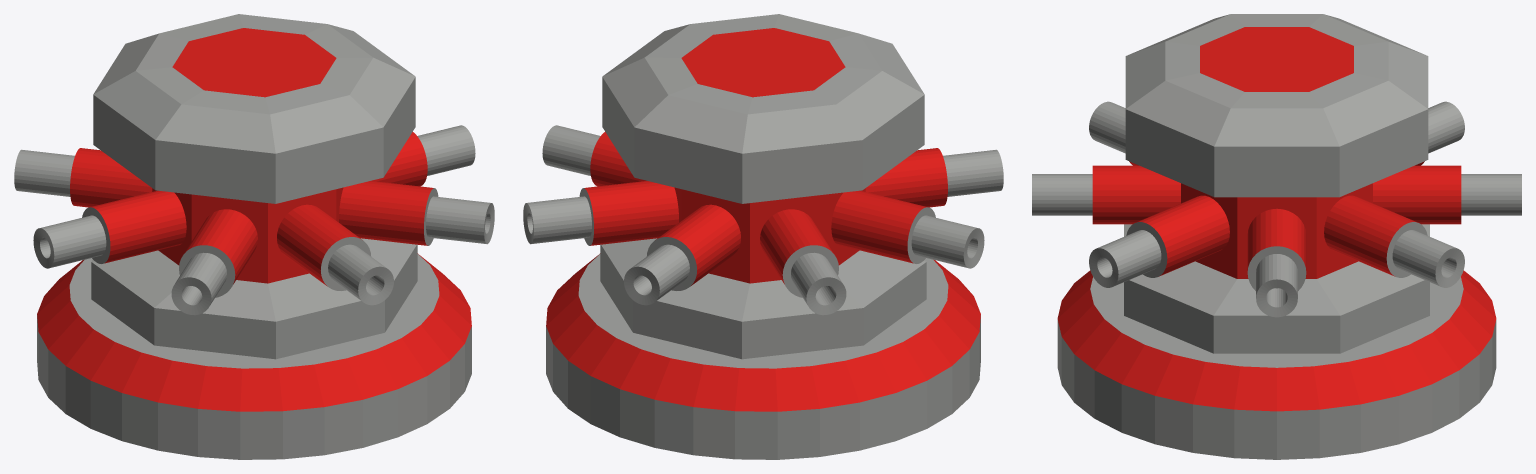
File: spikey_fire.fbx
3 views of the same model, side by side, from view 1: azimuth 30°, elevation 25°; view 2: azimuth 150°, elevation 25°; view 3: azimuth 270°, elevation 25° (orthographic).
Parts seen in each view (by area): view 1: Circle; view 2: Circle; view 3: Circle.
Part boxes in pixels (bbox=[...]): Circle: bbox=[14, 14, 494, 459]; Circle: bbox=[523, 14, 1003, 459]; Circle: bbox=[1032, 14, 1521, 459].
Bounding box in the file's own units: 223 × 155 × 223.
1 material, 1 textured.
